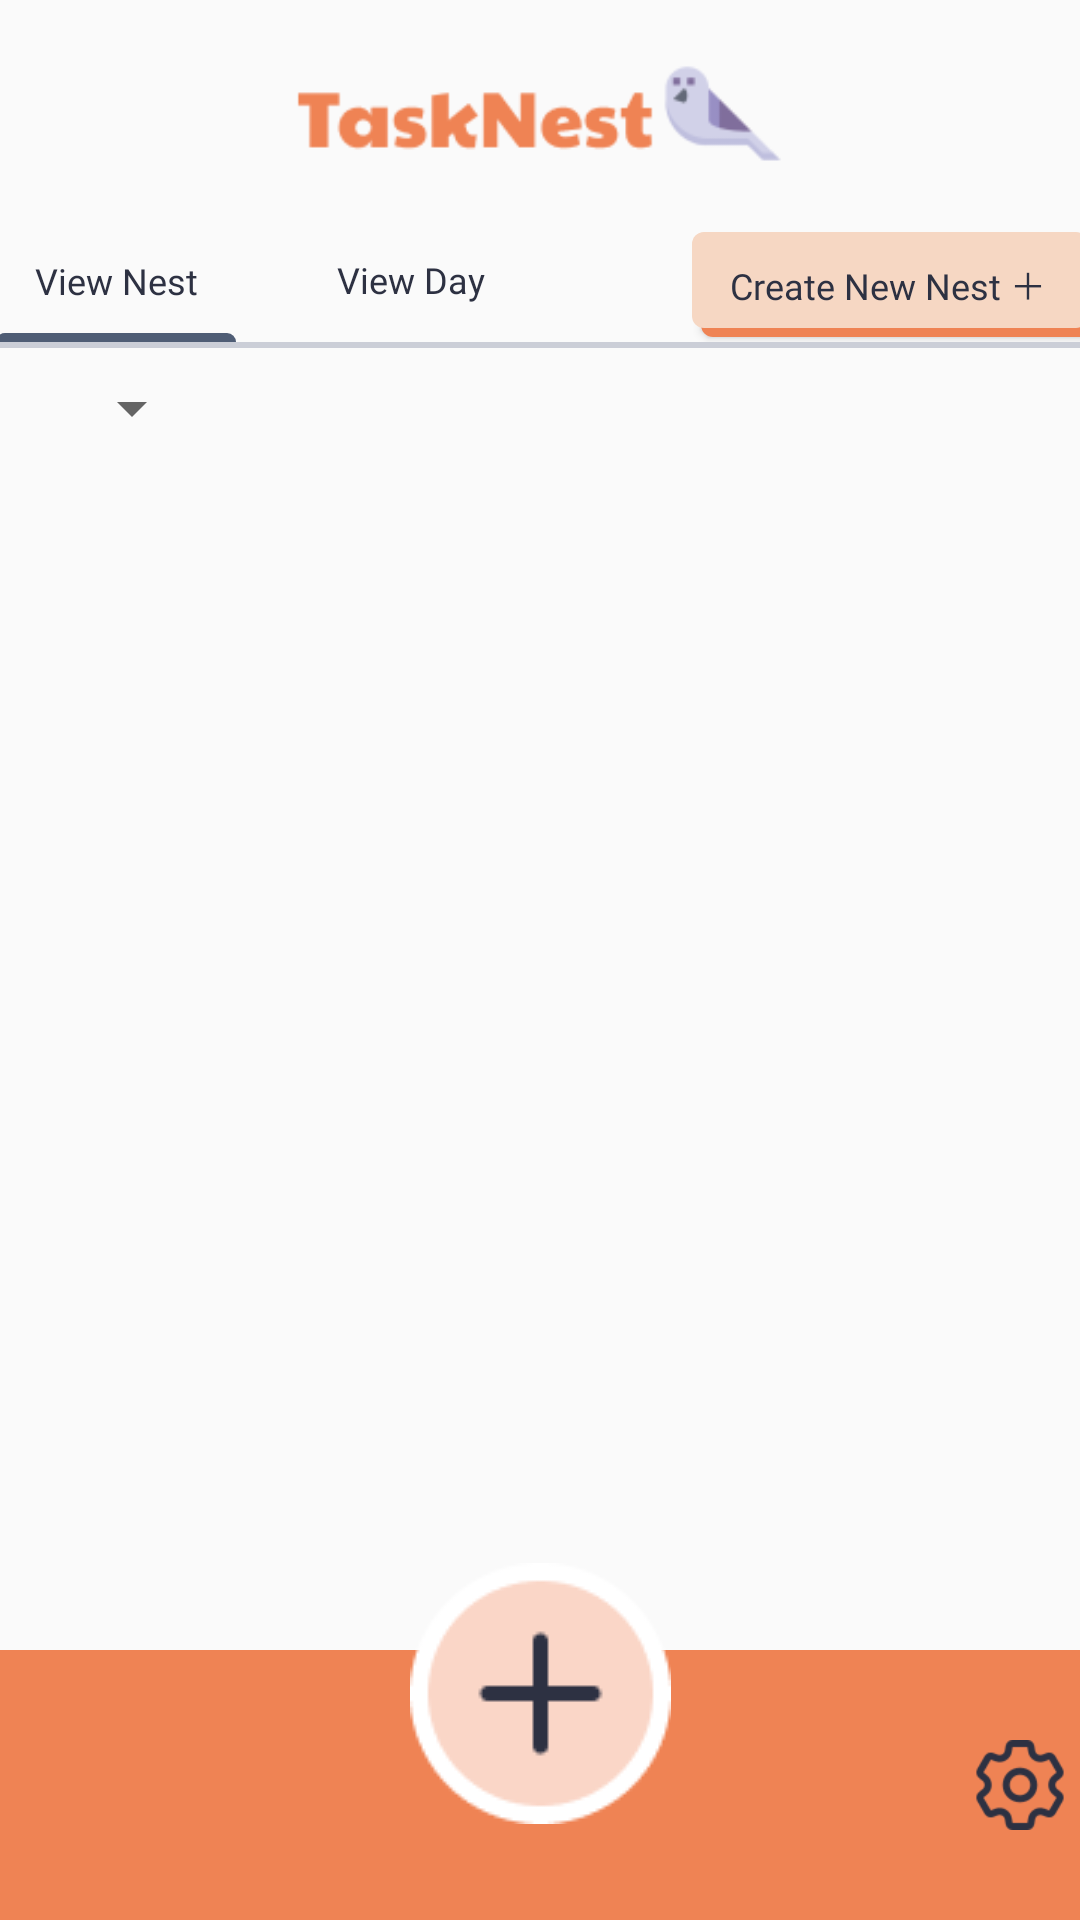

Where to tap for icons on this 1080px×1920px app screen, as point (x, y):
add task: point (540, 1693)
settings: point (1020, 1785)
